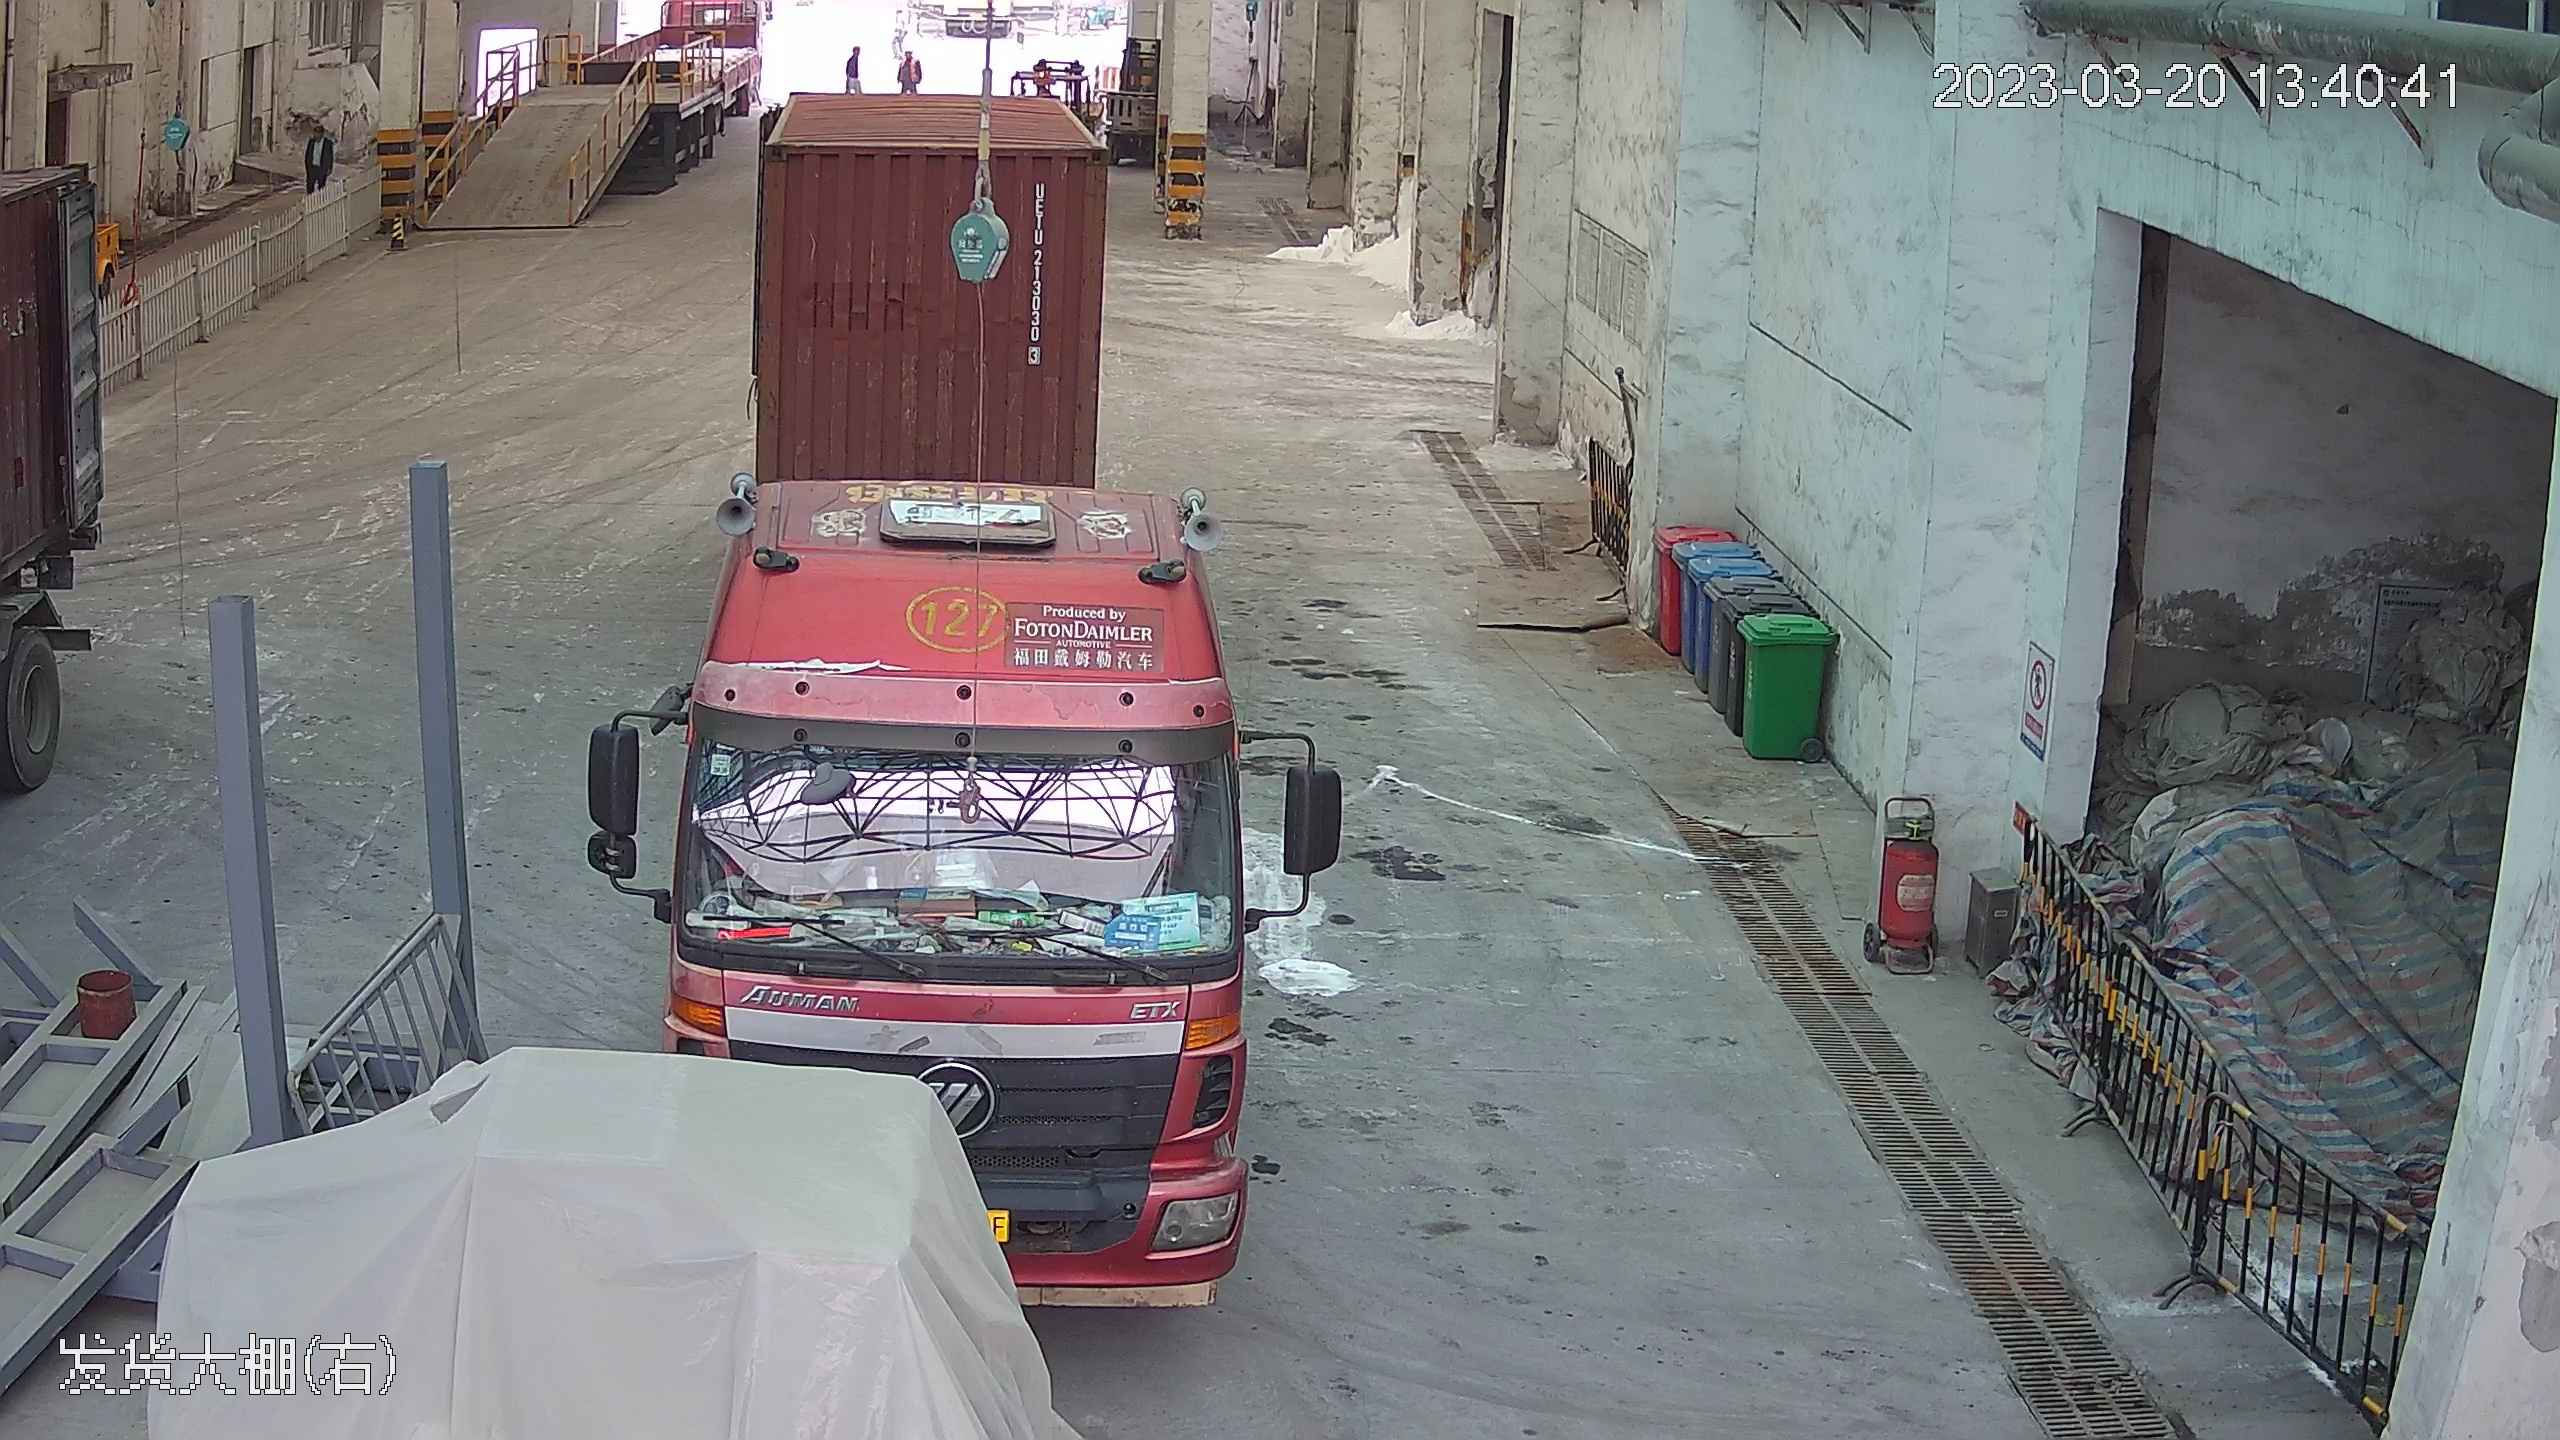head: (306, 125, 332, 152)
helmet: (314, 124, 325, 133)
people: (303, 121, 330, 190)
truck: (637, 21, 1272, 1307)
